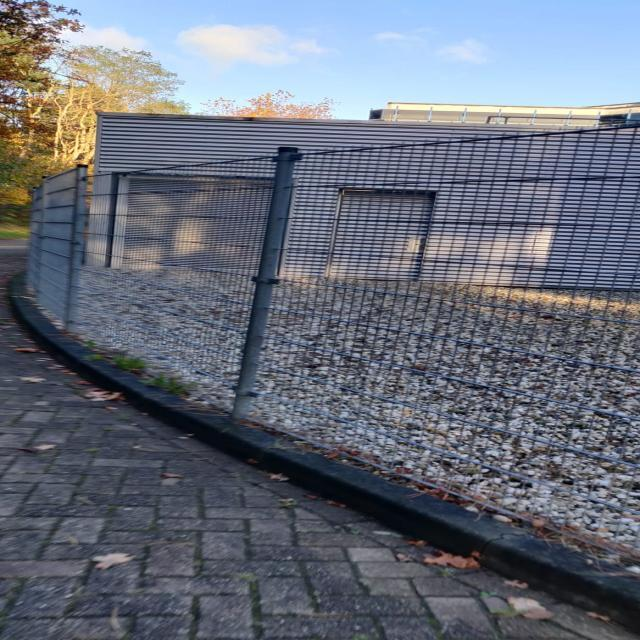fence line: (315, 125, 640, 562), (24, 161, 349, 467)
